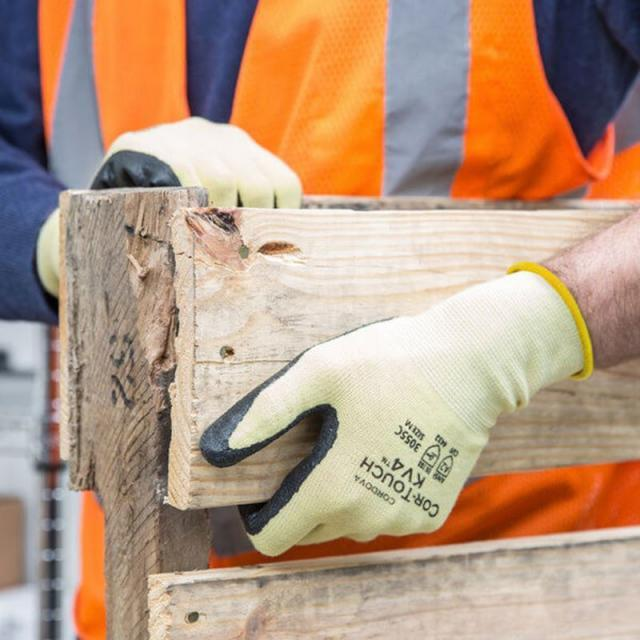gloves: (186, 260, 614, 584), (74, 116, 305, 211)
